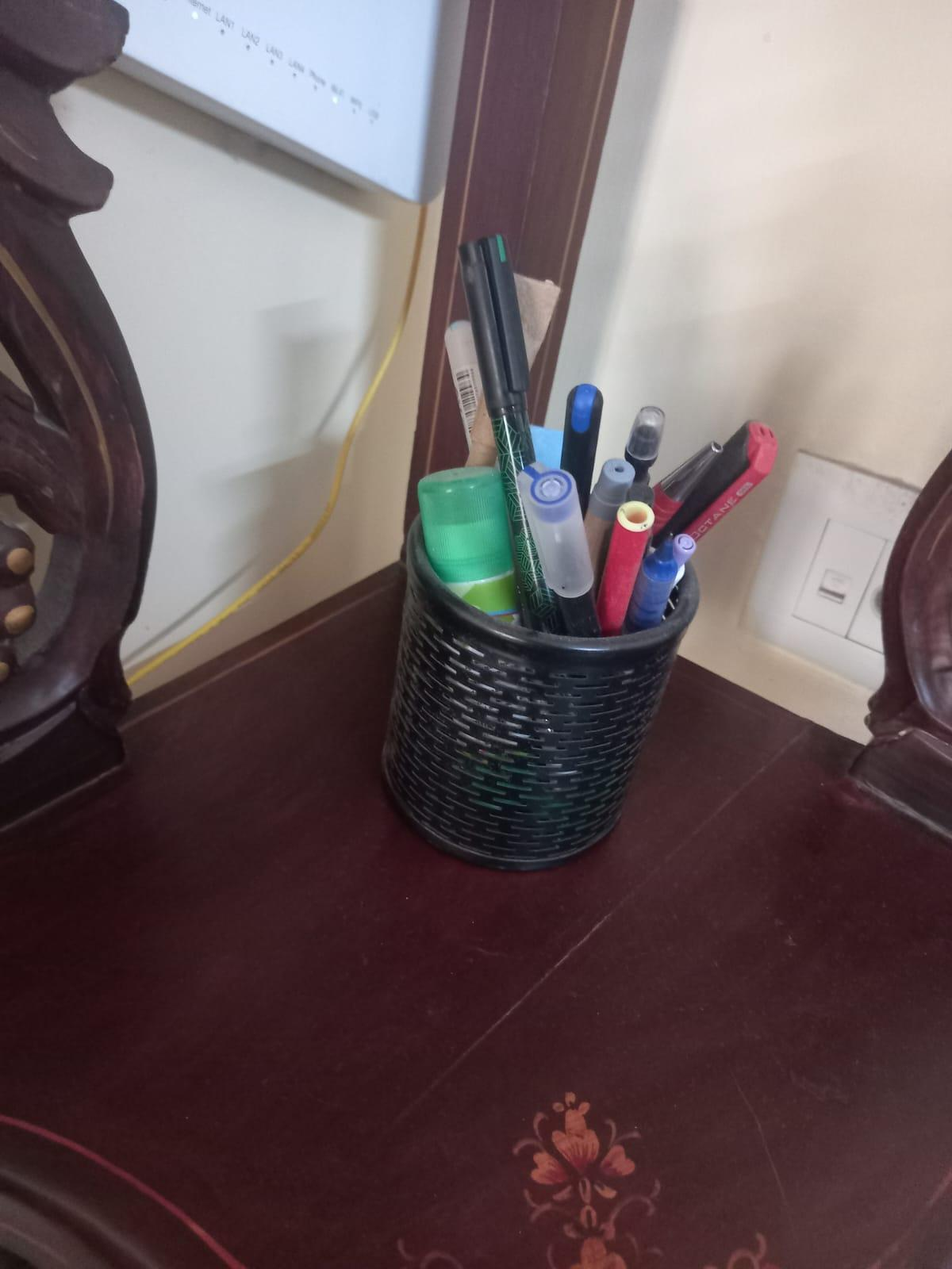stationary holder: (375, 260, 719, 863)
